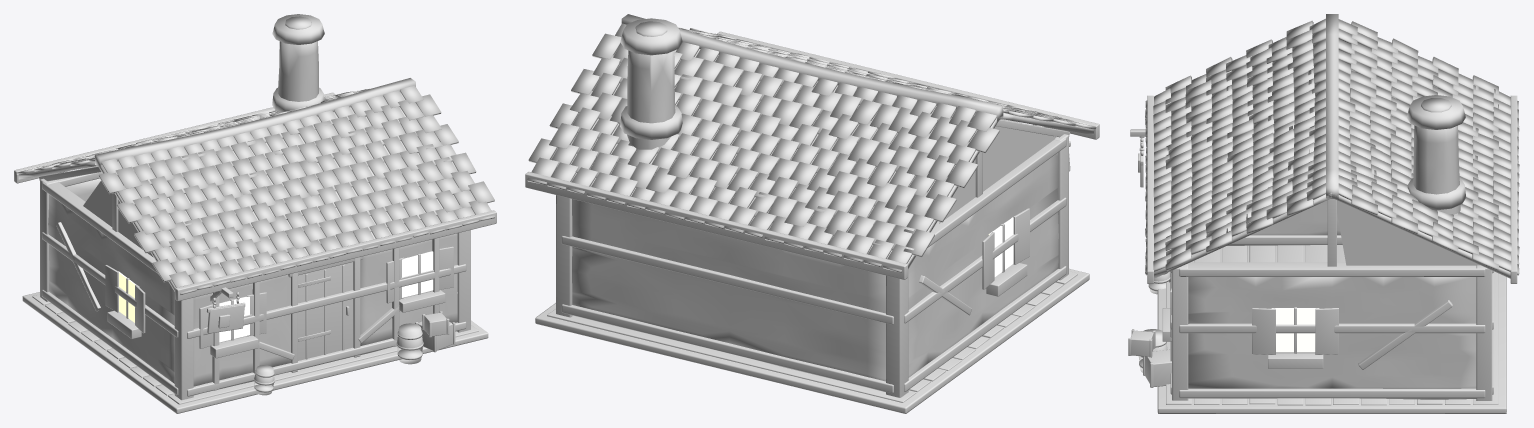
Rendered from tavern_LOD1.glb.
The picture shows the model from 3 angles, left to right: view 1: azimuth 30°, elevation 25°; view 2: azimuth 150°, elevation 25°; view 3: azimuth 270°, elevation 25°; orthographic projection. The views are drawn at different scales.
Parts seen in each view (by area): view 1: tavern_LOD1; view 2: tavern_LOD1; view 3: tavern_LOD1.
Boxes of the visible parts, <box> form: tavern_LOD1: <box>14,14,496,413</box>; tavern_LOD1: <box>525,14,1099,413</box>; tavern_LOD1: <box>1128,14,1519,413</box>.
Size of the model in its own units: 9.05 by 6.32 by 8.18.
